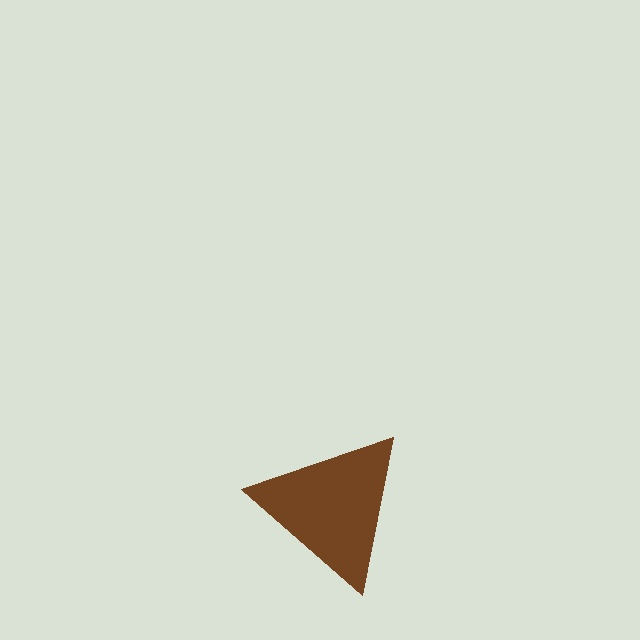triangle: (240, 436, 393, 596)
